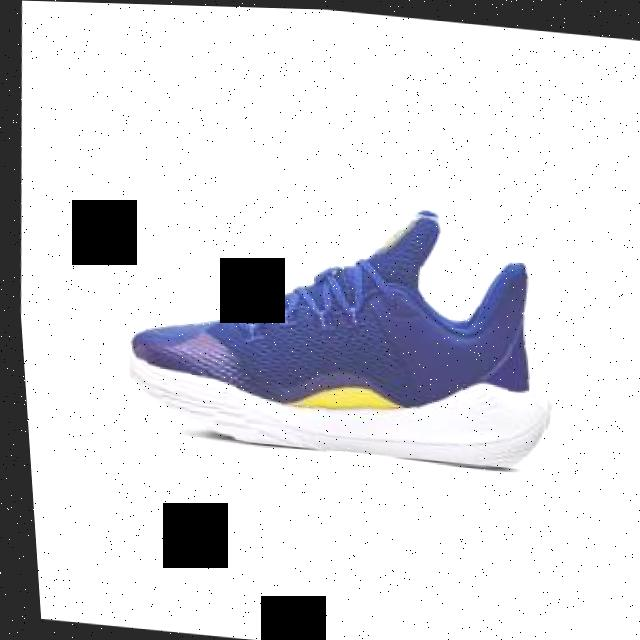shoe: (109, 178, 563, 469)
